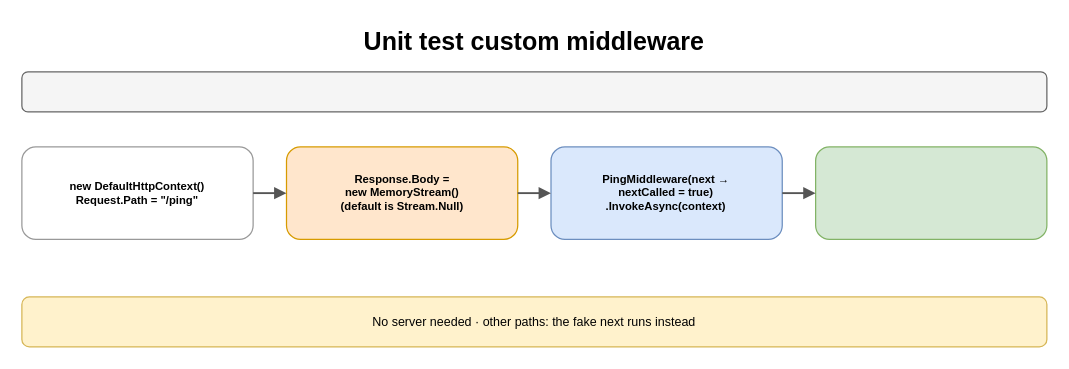
Some shapes in this 1069 by 369 pixel diagram are drawn without their labels. Each missing label, with the box of its shape:
Call InvokeAsync directly with a DefaultHttpContext and a fake next: (21, 71, 1047, 112)
rewind · read body == "pong" Assert.False(nextCalled): (814, 146, 1047, 239)
